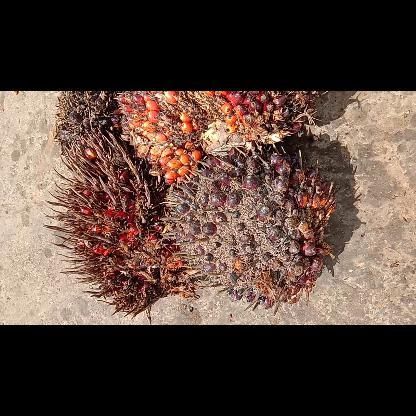Kurang masak: (162, 142, 332, 310)
TBS abnormal: (54, 91, 138, 179)
TBS masak: (114, 91, 322, 185)
Terlalu masak: (47, 140, 196, 324)
